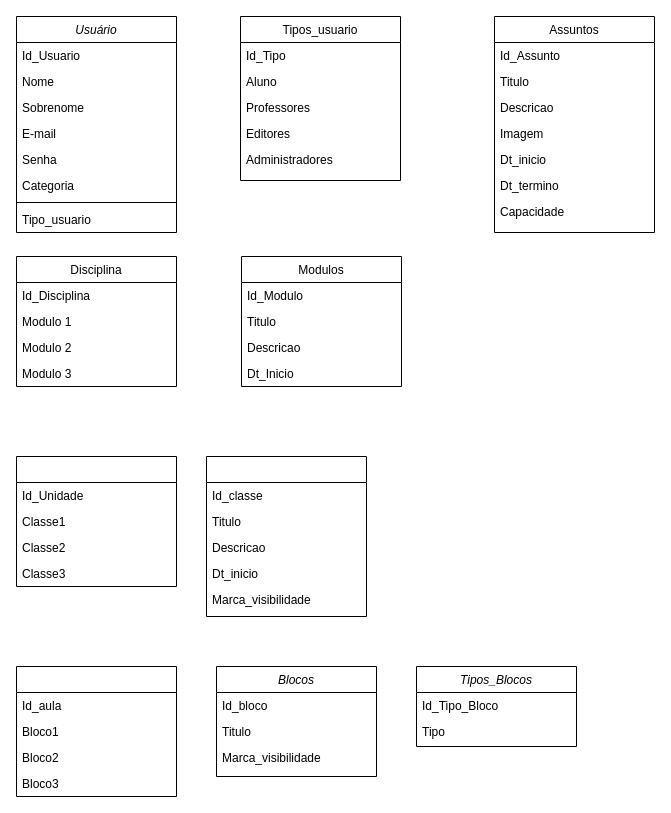
This 671x813 diagram has some shape labels left out. The box of each missing label's shape, as (x1, y1, x2, y2) in pixels:
Aulas: (16, 666, 176, 796)
Classes: (206, 456, 366, 616)
Unidades: (16, 456, 176, 586)
